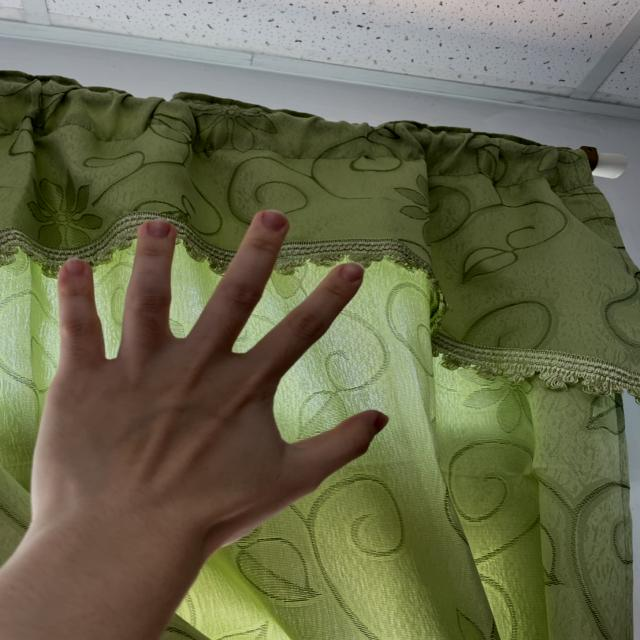no_glove: (1, 195, 410, 575)
